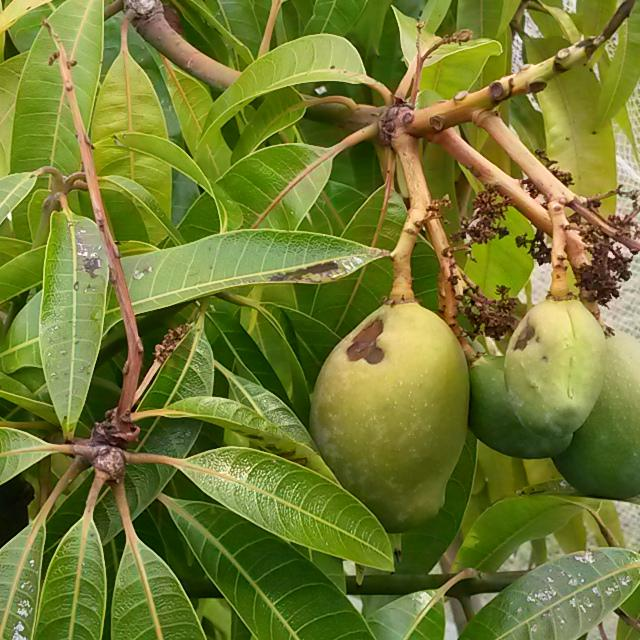mango: (322, 303, 467, 518), (557, 330, 640, 504)
